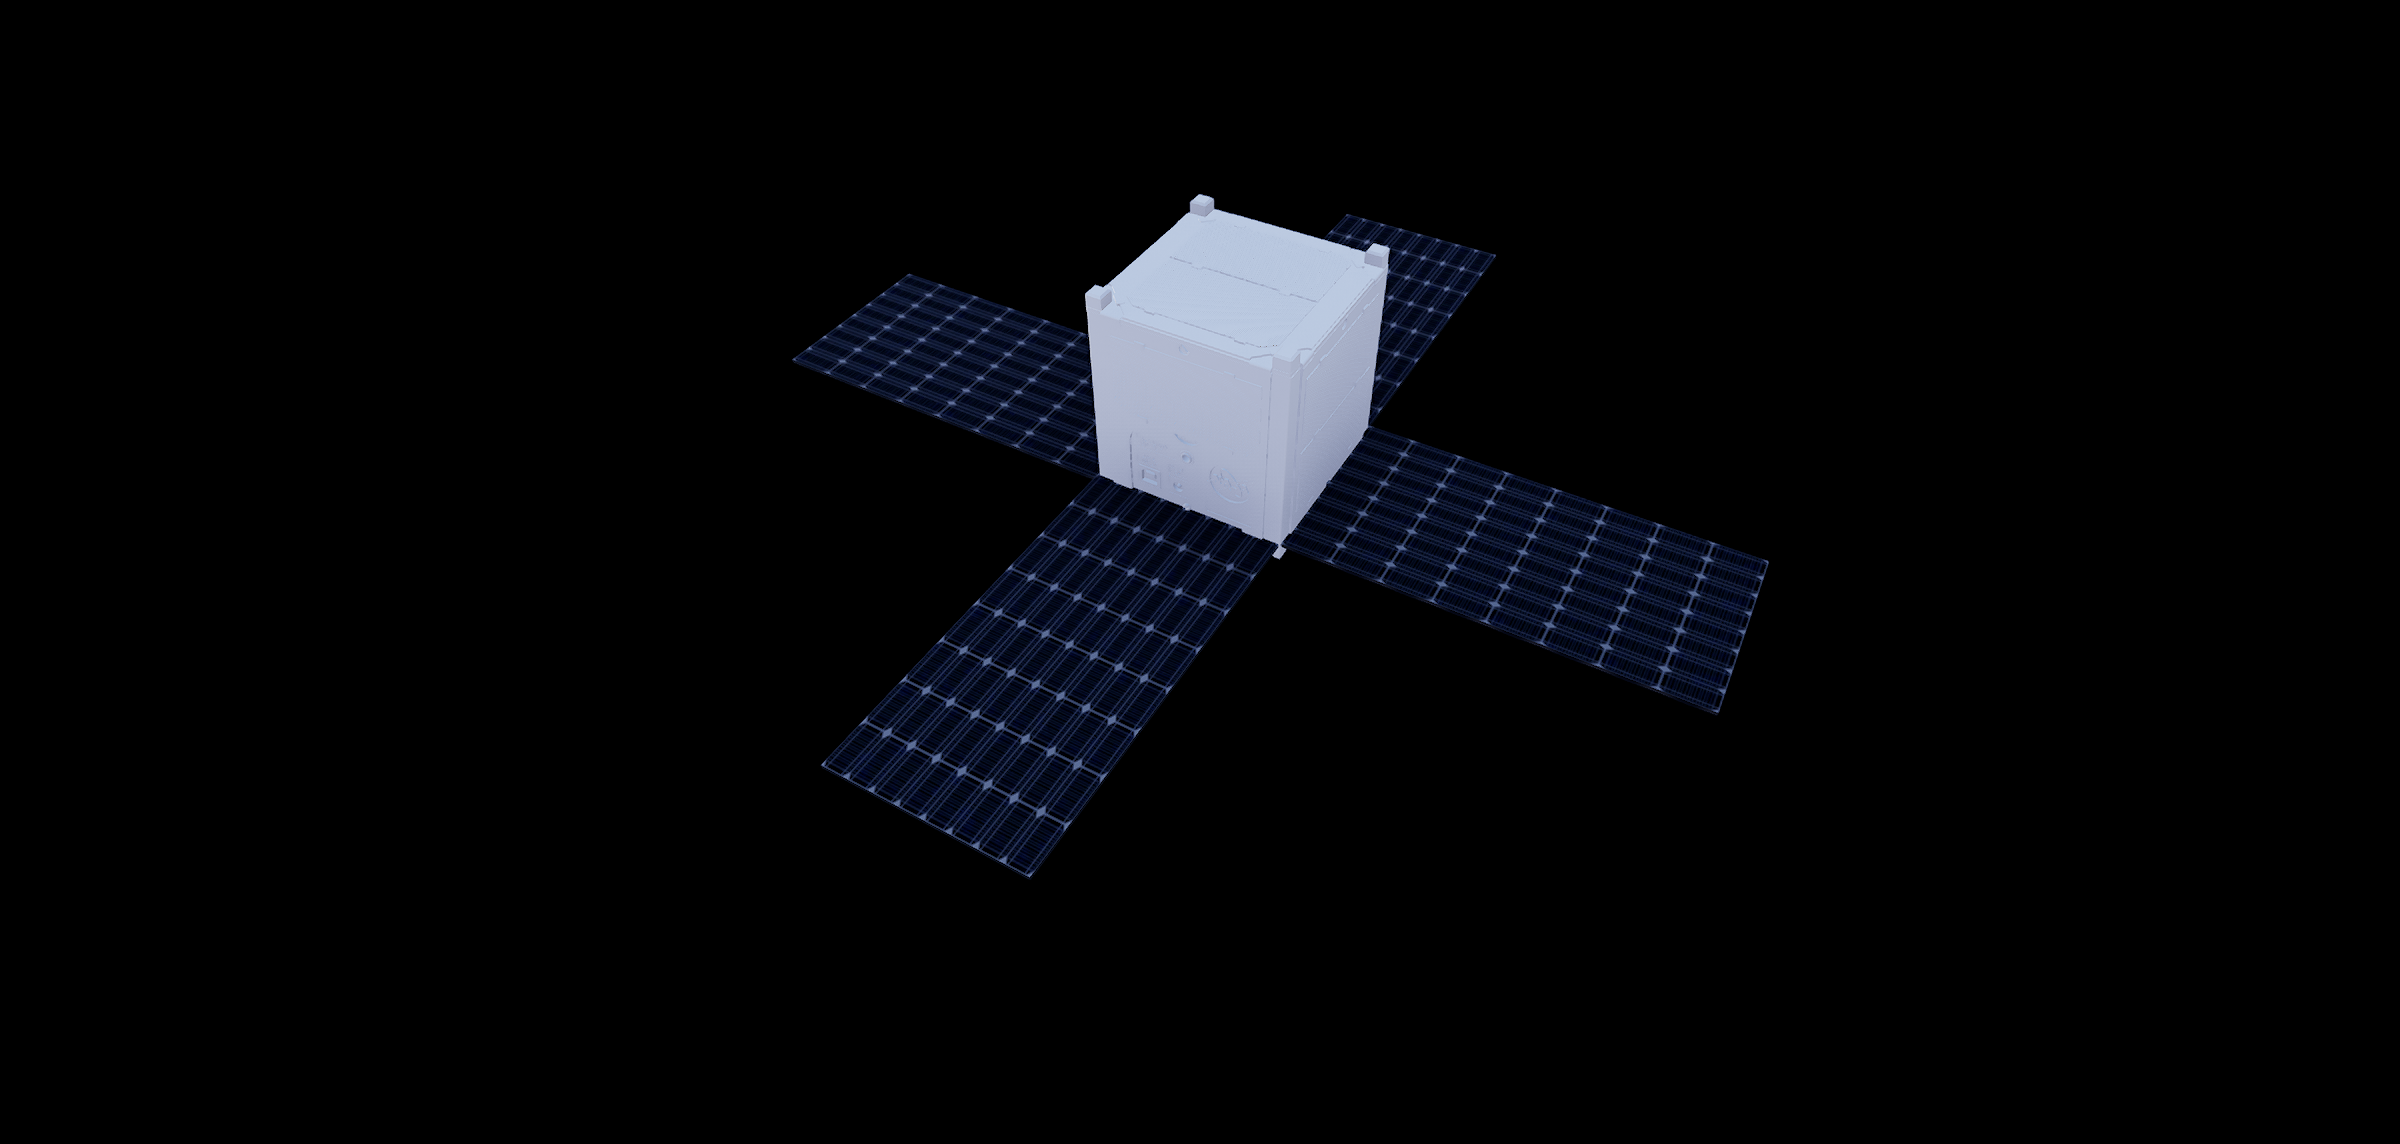satellite: (712, 168, 1805, 894)
